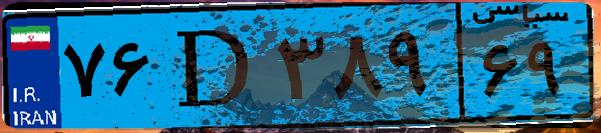3: (270, 28, 330, 110)
6: (475, 38, 525, 113), (110, 28, 158, 98)
7: (57, 26, 110, 100)
8: (330, 28, 385, 110)
9: (385, 28, 445, 110), (525, 38, 570, 115)
D: (158, 12, 270, 120)
